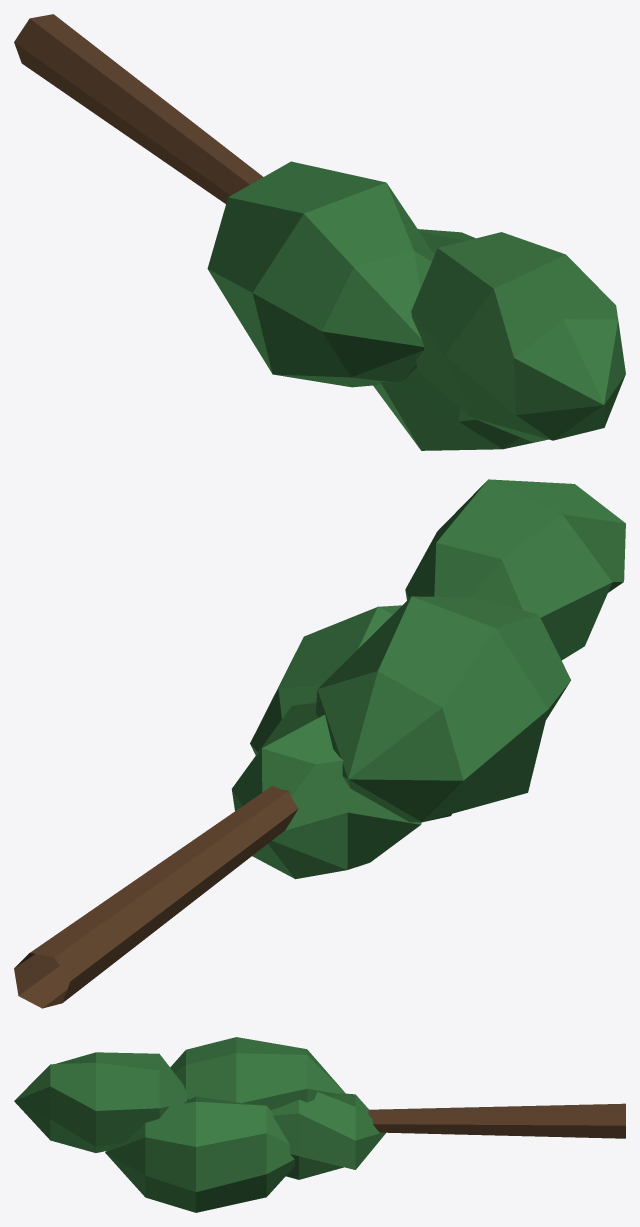
The model's file is grown.glb.
3 views of the same model, one above another, from view 1: azimuth 30°, elevation 25°; view 2: azimuth 150°, elevation 25°; view 3: azimuth 270°, elevation 25° (orthographic). The views are drawn at different scales.
Visible parts, largest first — view 1: tree_00_grown; view 2: tree_00_grown; view 3: tree_00_grown.
Boxes of the visible parts, bbox=[...] form: tree_00_grown: bbox=[14, 14, 625, 450]; tree_00_grown: bbox=[14, 479, 625, 1008]; tree_00_grown: bbox=[14, 1037, 625, 1212].
Bounding box in the file's own units: 10.86 × 9.67 × 37.8.
